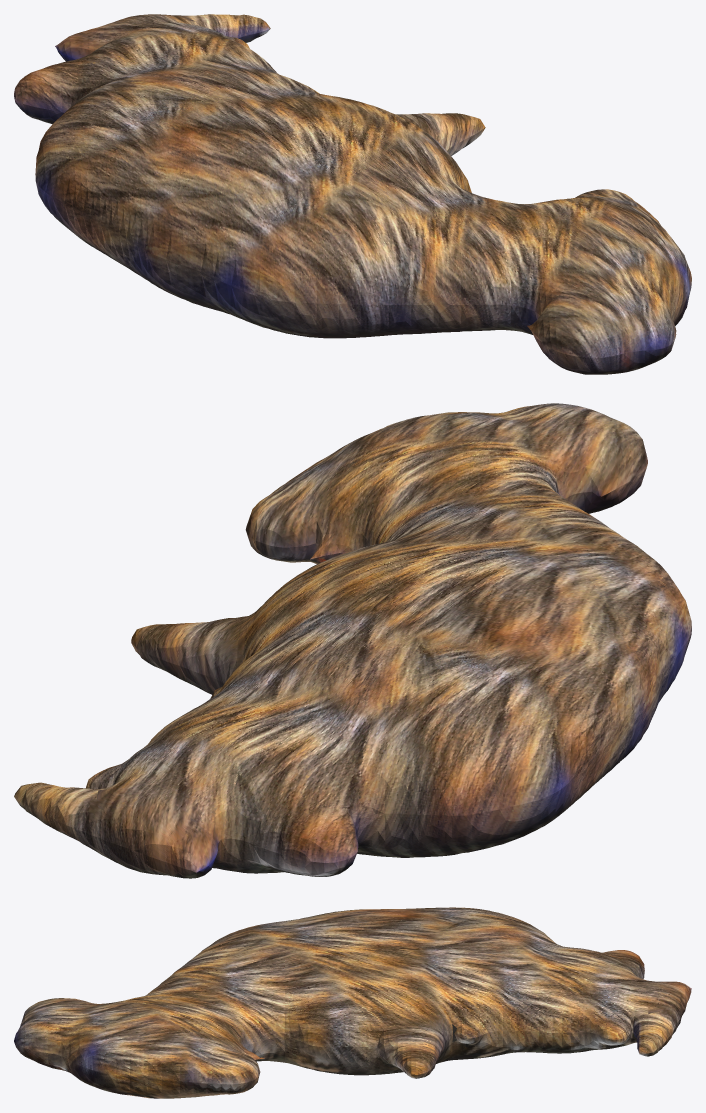
The model's file is 3Bp7bear3D.obj.
3 views of the same model, one above another, from view 1: azimuth 30°, elevation 25°; view 2: azimuth 150°, elevation 25°; view 3: azimuth 270°, elevation 25° (orthographic). The views are drawn at different scales.
Parts seen in each view (by area): view 1: Object.1; view 2: Object.1; view 3: Object.1.
Part boxes in pixels (bbox=[...]): Object.1: bbox=[14, 14, 691, 374]; Object.1: bbox=[14, 403, 691, 878]; Object.1: bbox=[14, 907, 691, 1098].
Bounding box in the file's own units: 0.1894 × 0.0655 × 0.3576.
Materials: 1 (1 with a texture image).
